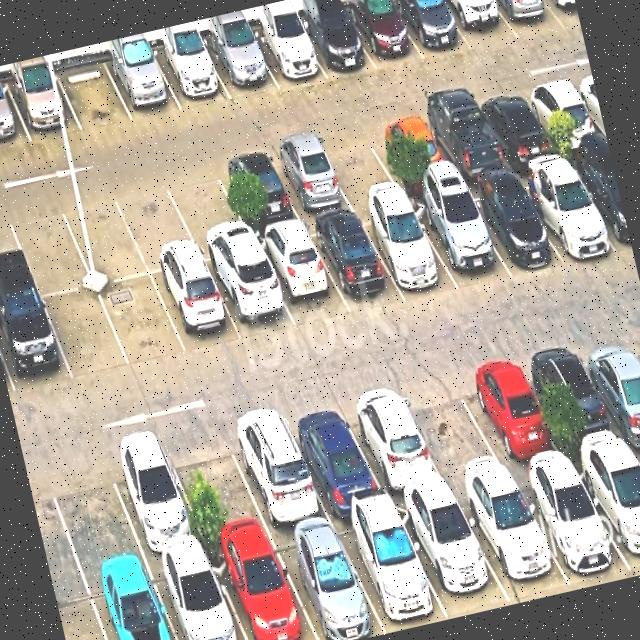empty: (393, 366, 511, 492), (161, 423, 270, 548), (41, 446, 144, 576), (57, 187, 149, 285), (162, 163, 254, 261), (113, 177, 202, 273), (5, 199, 93, 296), (97, 274, 187, 367), (42, 287, 129, 381), (314, 128, 401, 205), (55, 59, 132, 130)
occupied: (332, 507, 448, 633), (513, 465, 631, 585), (454, 479, 570, 601), (221, 404, 330, 533), (394, 495, 510, 616), (455, 352, 568, 476), (269, 523, 385, 640), (337, 383, 450, 502), (100, 434, 206, 560), (279, 396, 388, 518), (523, 338, 629, 460), (207, 536, 317, 640), (513, 160, 618, 261), (459, 178, 561, 276), (409, 191, 511, 289), (253, 225, 349, 329), (305, 212, 403, 313), (357, 202, 458, 297), (148, 549, 246, 640), (572, 448, 640, 576), (151, 263, 242, 354), (205, 252, 296, 340), (573, 328, 640, 446), (417, 102, 509, 183), (213, 151, 301, 234), (0, 294, 72, 395), (85, 563, 176, 640), (266, 139, 353, 219), (565, 150, 632, 253), (367, 115, 455, 191), (473, 88, 558, 165), (521, 77, 605, 152), (295, 7, 375, 78), (150, 41, 231, 110), (342, 0, 423, 69), (103, 49, 181, 120), (5, 70, 81, 141), (247, 21, 326, 87), (203, 32, 277, 98), (392, 0, 471, 59), (440, 0, 518, 51), (492, 0, 565, 38), (0, 81, 30, 148), (546, 0, 580, 27)
